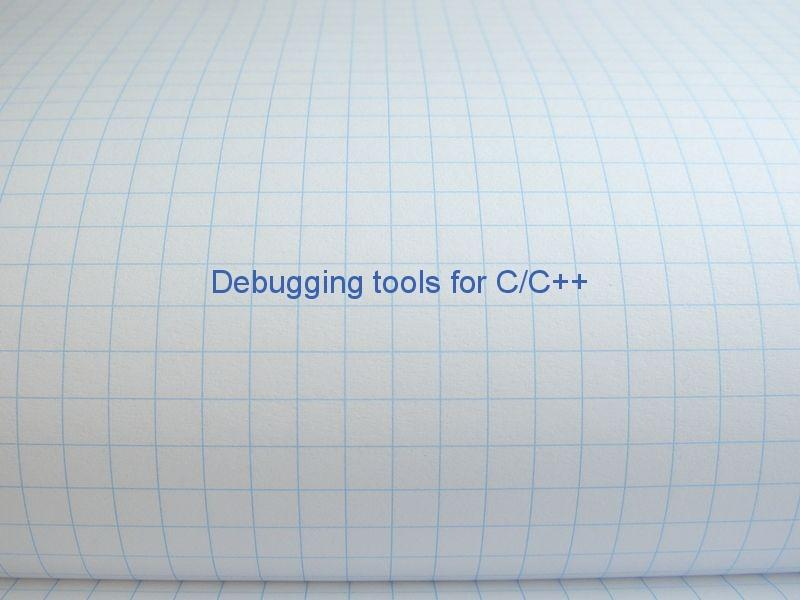title: (188, 229, 625, 345)
